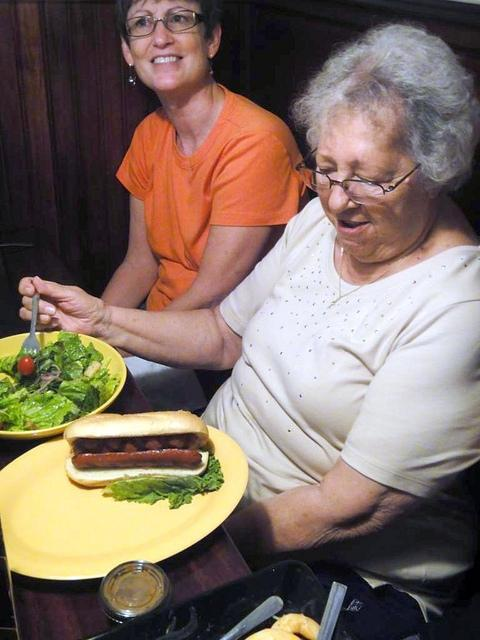lettuce: (100, 454, 225, 510), (1, 392, 81, 432), (54, 350, 84, 380), (0, 376, 27, 408), (80, 342, 103, 366), (80, 368, 110, 384), (0, 356, 18, 380), (42, 360, 55, 371)
tomato: (18, 356, 34, 376)
